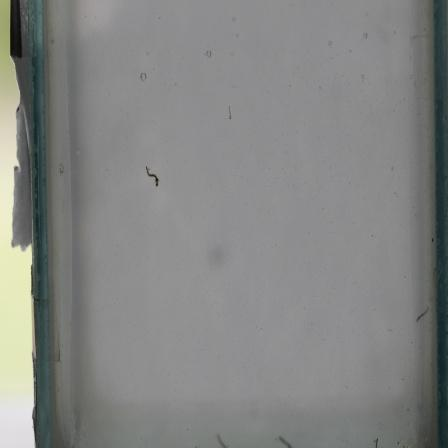Jentik-Nyamuk: (142, 162, 162, 192), (413, 303, 433, 326)
